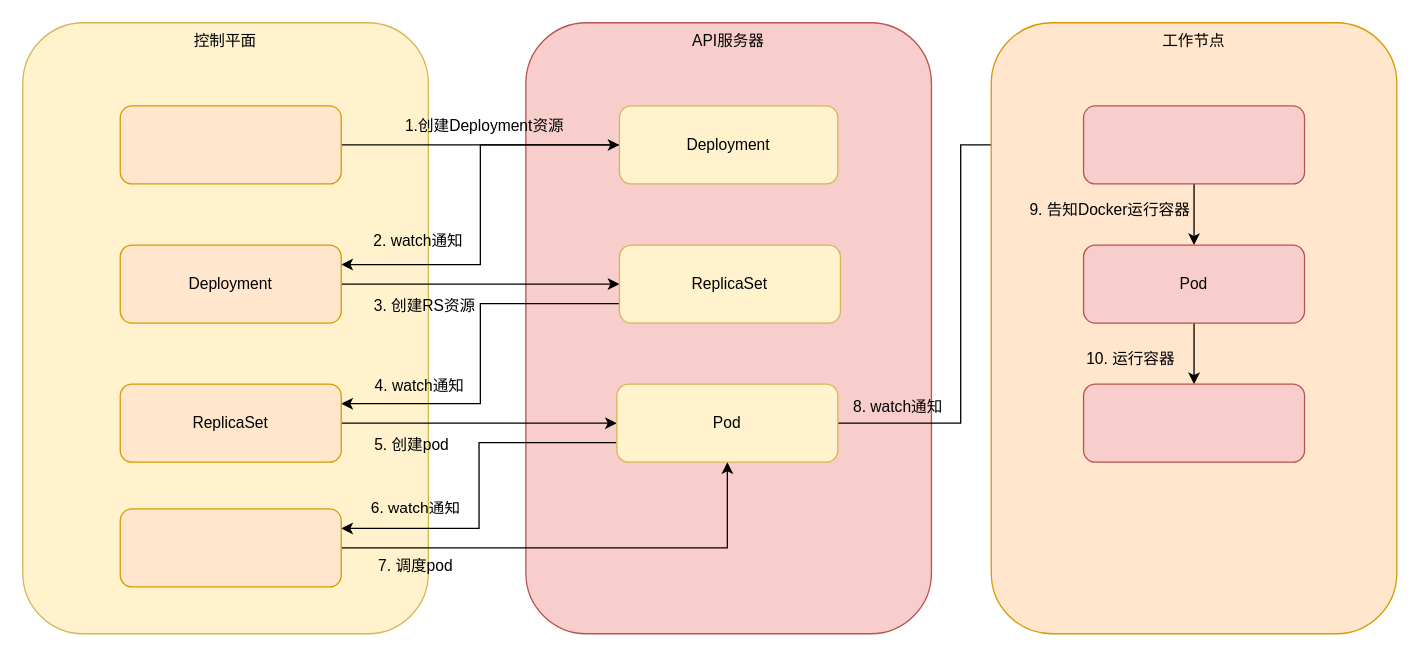
Image size: 1420x657. Some labels were removed from this diagram. The shapes that lost their labels are listed below. From the top down, each one's centre as x and y in pixels, then its label:
(x=230, y=144): kubectl
(x=1193, y=144): Kubelet
(x=1193, y=422): 容器
(x=230, y=547): Scheduler
